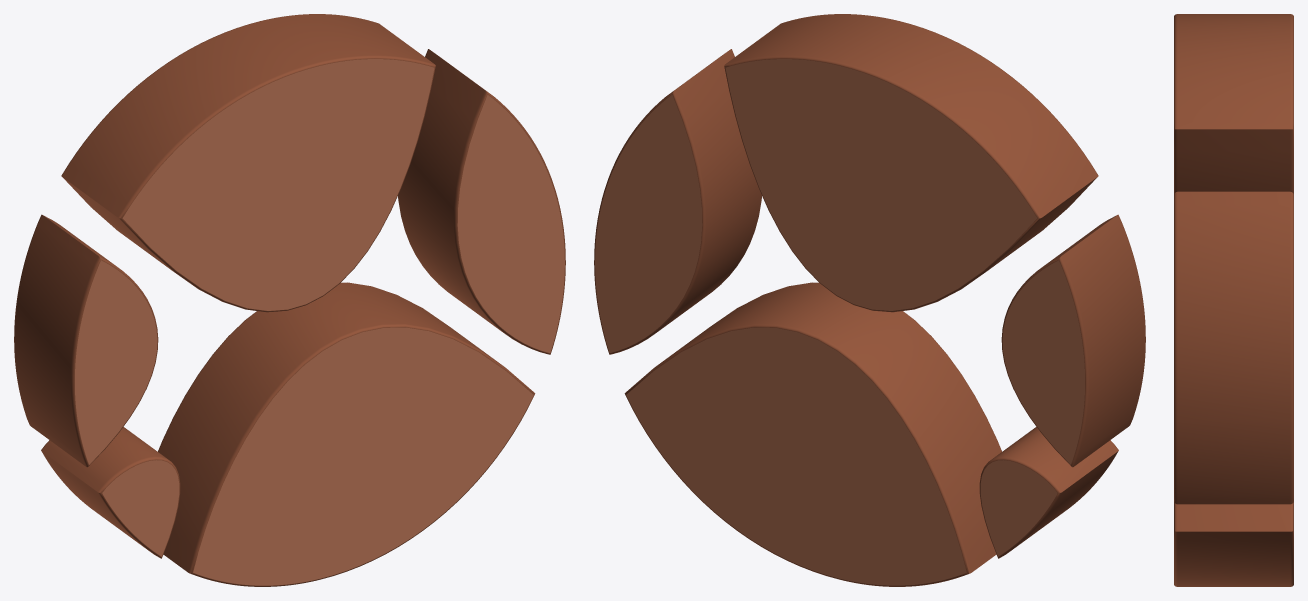
Rendered from giraffe-bio-symbol-copper.glb.
3 renders of one model, left to right at view 1: azimuth 30°, elevation 25°; view 2: azimuth 150°, elevation 25°; view 3: azimuth 270°, elevation 25°, orthographic.
Visible parts, largest first — view 1: Symbol 4, Symbol 3, Symbol 5, Symbol 1, Symbol 2; view 2: Symbol 4, Symbol 3, Symbol 5, Symbol 1, Symbol 2; view 3: Symbol 5, Symbol 3, Symbol 4.
Boxes of the visible parts, box(x1,y1,x2,y2) form: Symbol 4: box(158, 282, 535, 586); Symbol 3: box(61, 14, 435, 312); Symbol 5: box(398, 49, 565, 354); Symbol 1: box(14, 214, 158, 467); Symbol 2: box(41, 427, 180, 558); Symbol 4: box(624, 282, 1001, 586); Symbol 3: box(724, 14, 1098, 312); Symbol 5: box(594, 49, 761, 354); Symbol 1: box(1001, 214, 1145, 467); Symbol 2: box(979, 427, 1118, 558); Symbol 5: box(1174, 191, 1293, 504); Symbol 3: box(1174, 14, 1293, 194); Symbol 4: box(1174, 501, 1293, 586).
Bounding box in the file's own units: 1.84 × 1.84 × 0.384.
